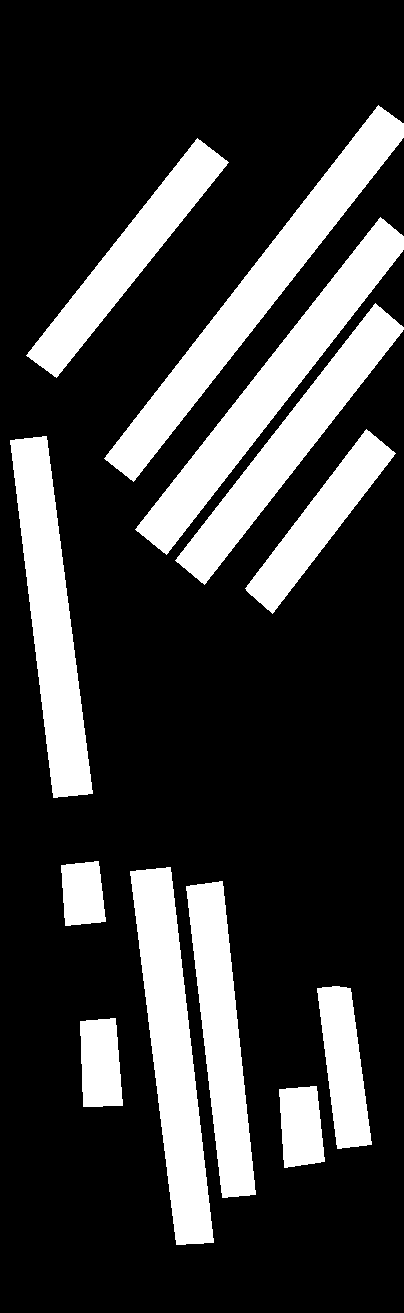parkingspot: (103, 105, 404, 481), (134, 217, 404, 554), (174, 303, 404, 584), (25, 138, 228, 377), (129, 867, 213, 1244), (10, 435, 92, 797), (244, 429, 395, 613), (185, 881, 255, 1197), (316, 986, 371, 1148), (80, 1017, 122, 1106), (278, 1086, 324, 1167), (61, 860, 105, 925)
